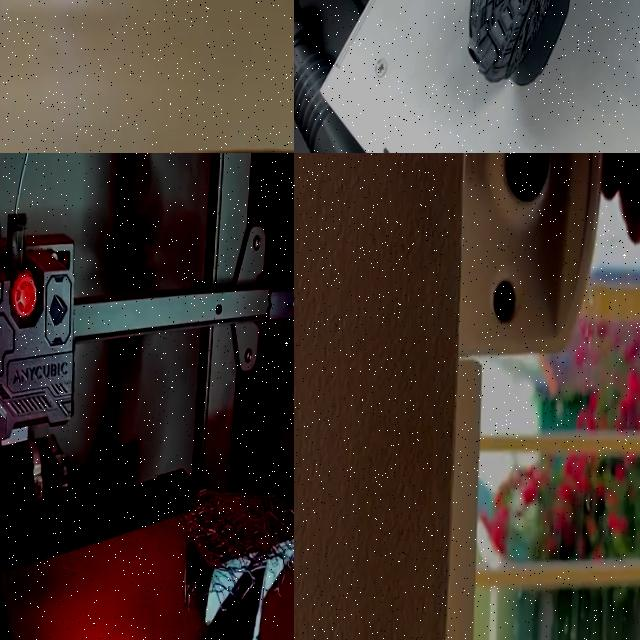spaghetti: (168, 468, 294, 624)
